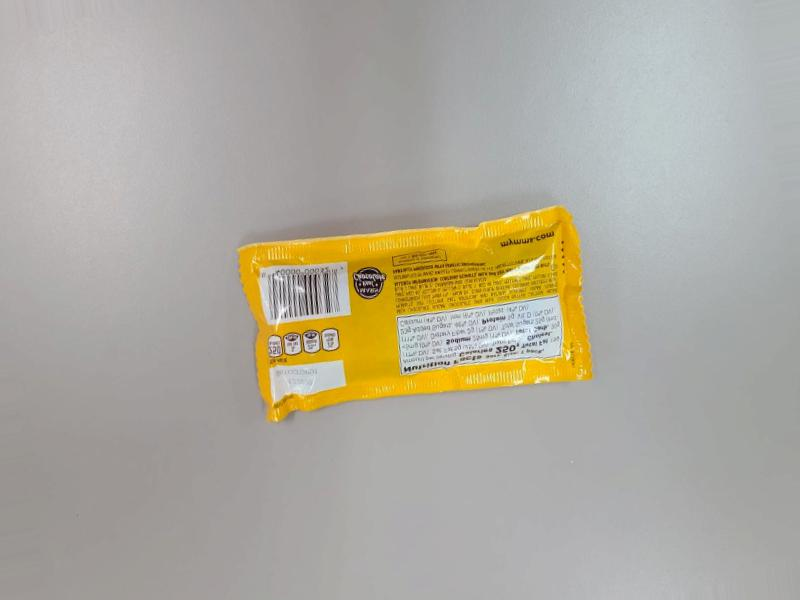m&m: (192, 199, 626, 415)
